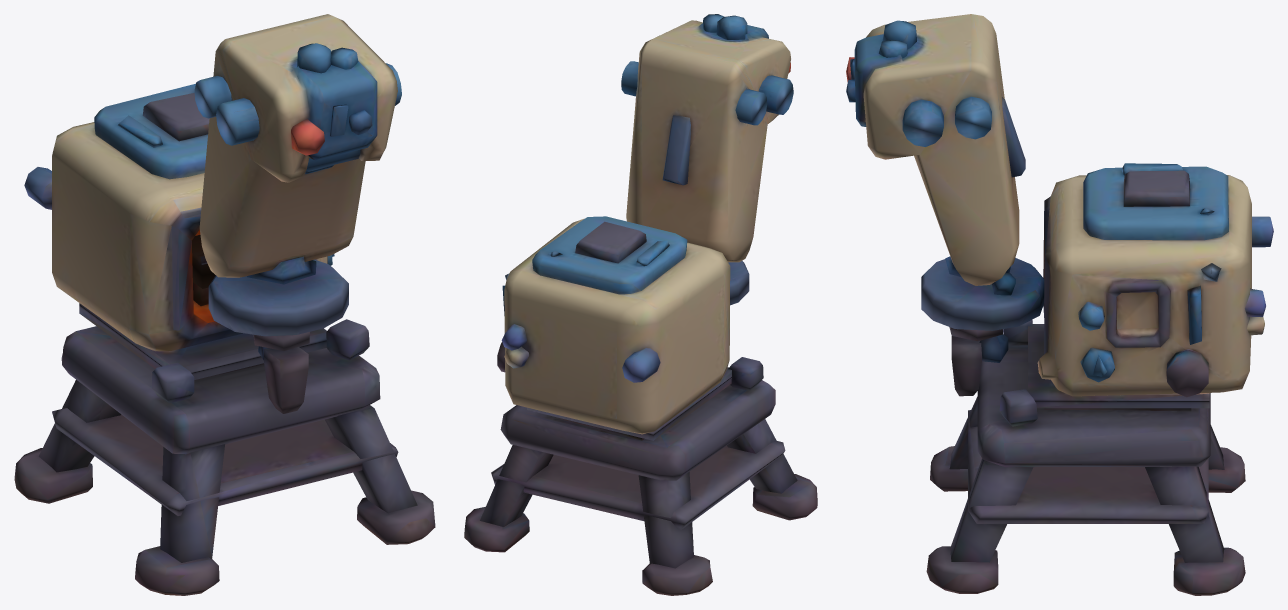
Rendered from drill.glb.
The picture shows the model from 3 angles, left to right: view 1: azimuth 30°, elevation 25°; view 2: azimuth 150°, elevation 25°; view 3: azimuth 270°, elevation 25°; orthographic projection. The views are drawn at different scales.
Parts seen in each view (by area): view 1: tripo_node_cfa25f8d-1b98-4abf-8942-d96535bf8829; view 2: tripo_node_cfa25f8d-1b98-4abf-8942-d96535bf8829; view 3: tripo_node_cfa25f8d-1b98-4abf-8942-d96535bf8829.
Part boxes in pixels (<box>): tripo_node_cfa25f8d-1b98-4abf-8942-d96535bf8829: <box>14,14,435,595</box>; tripo_node_cfa25f8d-1b98-4abf-8942-d96535bf8829: <box>464,14,817,595</box>; tripo_node_cfa25f8d-1b98-4abf-8942-d96535bf8829: <box>846,14,1273,595</box>.
Size of the model in its own units: 0.5645 by 0.998 by 0.7676.
Materials: 1 (1 with a texture image).
